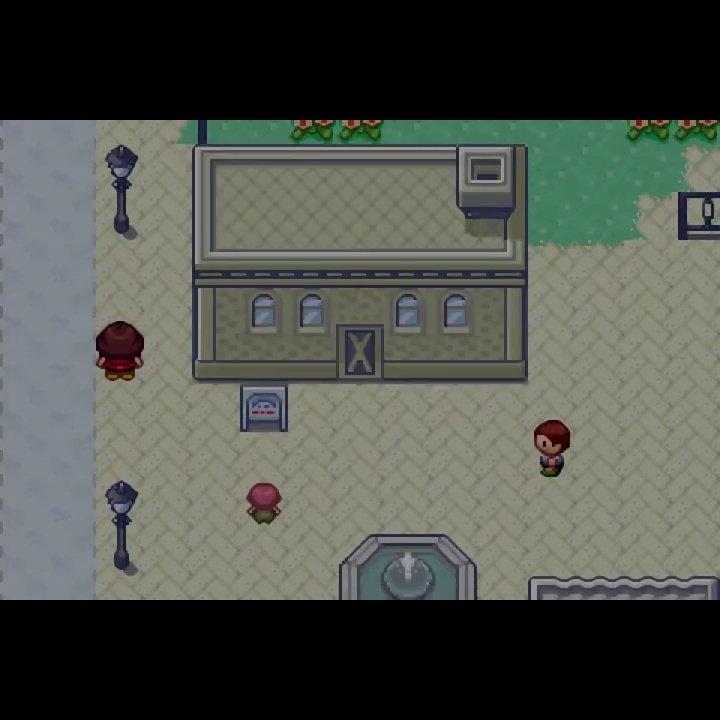house: (190, 142, 531, 387)
npc: (94, 319, 148, 385), (530, 416, 574, 480), (244, 481, 284, 529)
